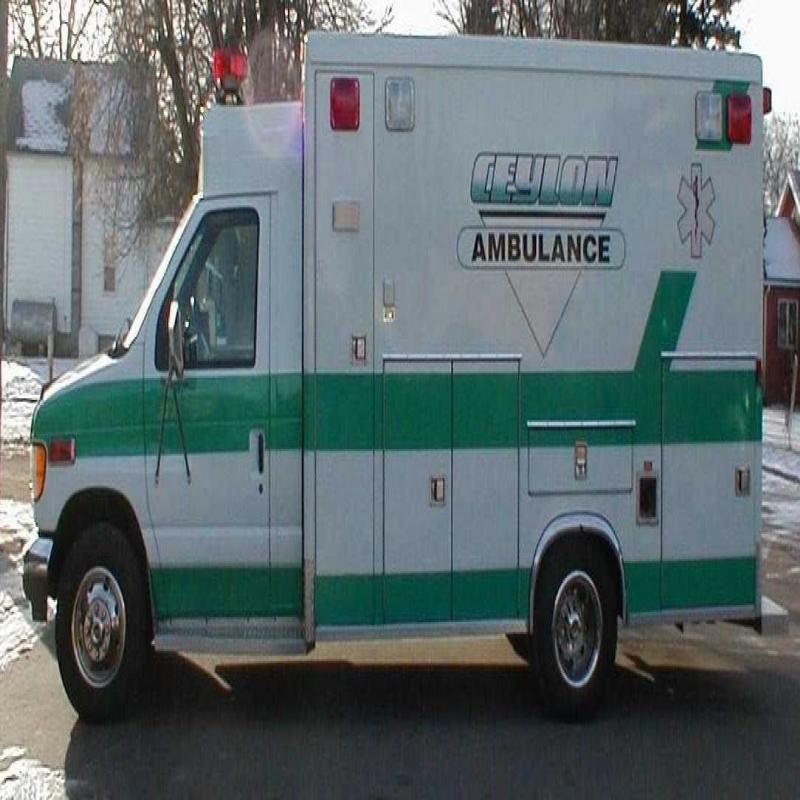AmbulanceSiren: (318, 61, 429, 181), (692, 79, 761, 171), (204, 36, 250, 126)
